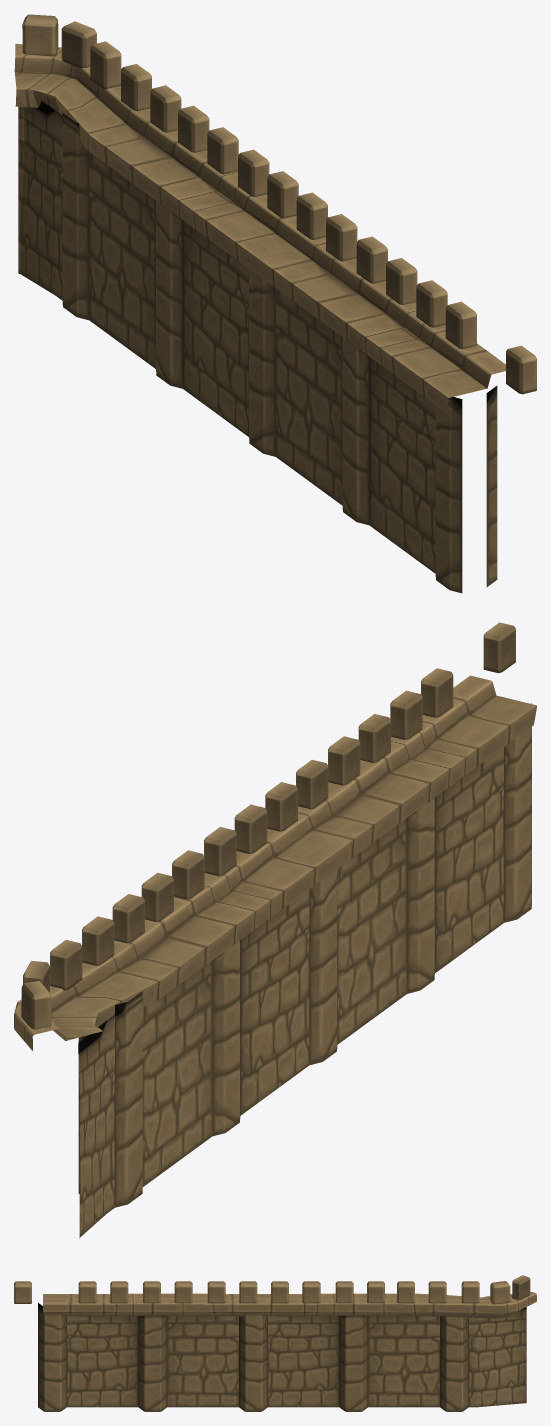
The model's file is wallRight_model.glb.
3 renders of one model, top to bottom at view 1: azimuth 30°, elevation 25°; view 2: azimuth 150°, elevation 25°; view 3: azimuth 270°, elevation 25°, orthographic. The views are drawn at different scales.
Parts seen in each view (by area): view 1: wallRight_t2; view 2: wallRight_t2; view 3: wallRight_t2.
Part boxes in pixels (x1,y1,x2,y2): wallRight_t2: (14,14,536,593); wallRight_t2: (14,622,536,1238); wallRight_t2: (14,1275,536,1411).
Size of what is drawn, in the model's own units: 2.56 by 7.56 by 27.64.
1 material, 1 textured.
